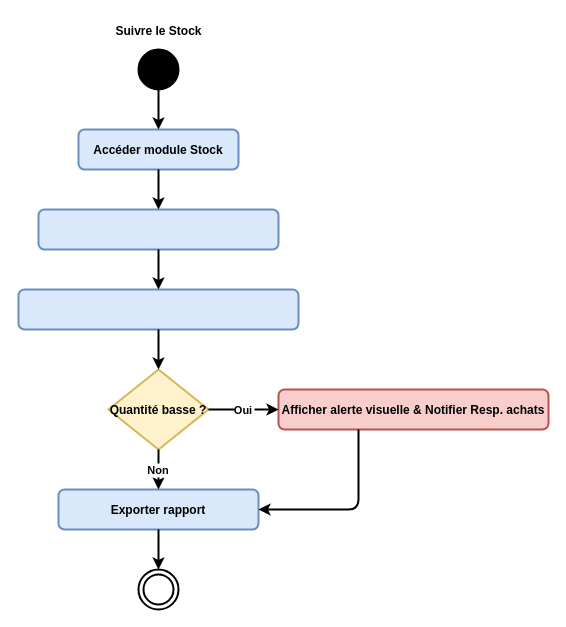
The diagram is 566 pixels wide and 627 high, and some of its shapes have lost their labels. The centre of each missing label's shape, as x and y in pixels:
Afficher quantités dispos et mouvements: (158,309)
Sélectionner catégorie / article: (158,229)
